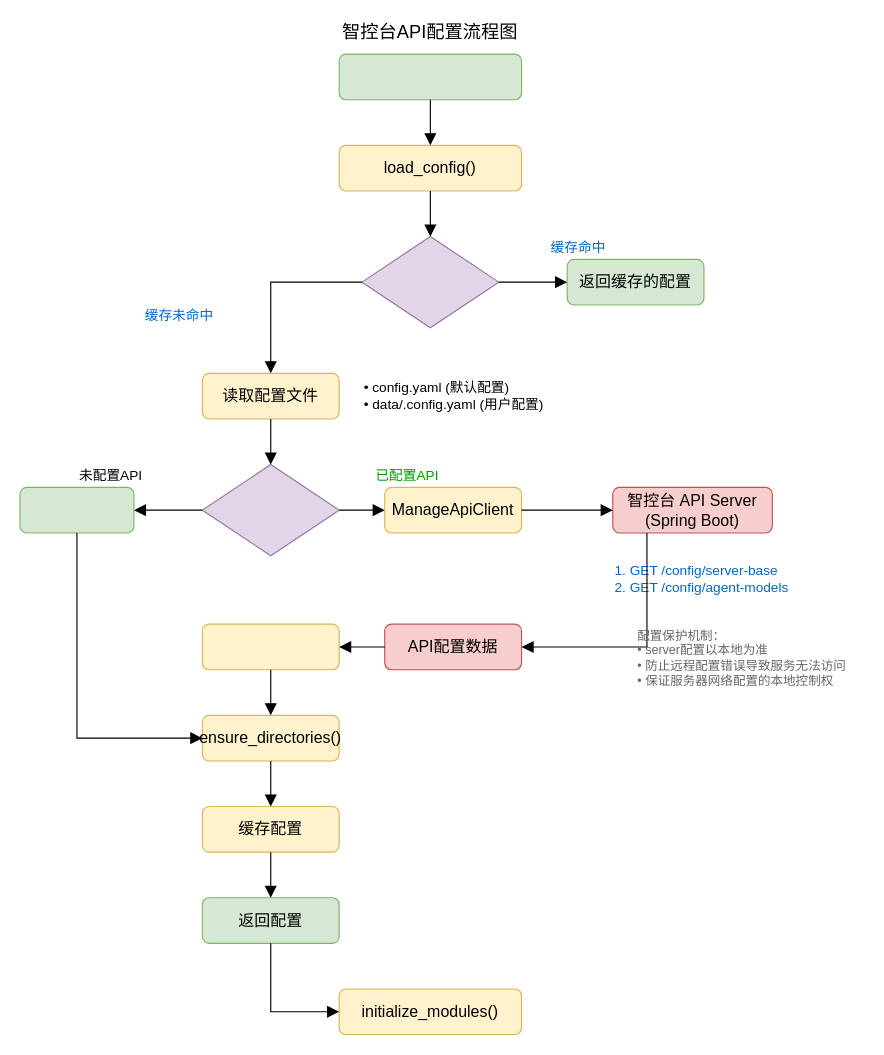
Image size: 884x1055. Some labels were removed from this diagram. The shapes that lost their labels are listed below. From the top down, each one's box as (x1, y1, x2, y2) in pixels, then its label:
(338, 53, 522, 100): 启动 xiaozhi-server
(361, 235, 499, 328): 检查配置缓存
(19, 486, 134, 533): 合并配置文件
(201, 463, 339, 556): 检查 manager-api.url
(201, 623, 339, 670): 合并server配置 (以本地为准)
